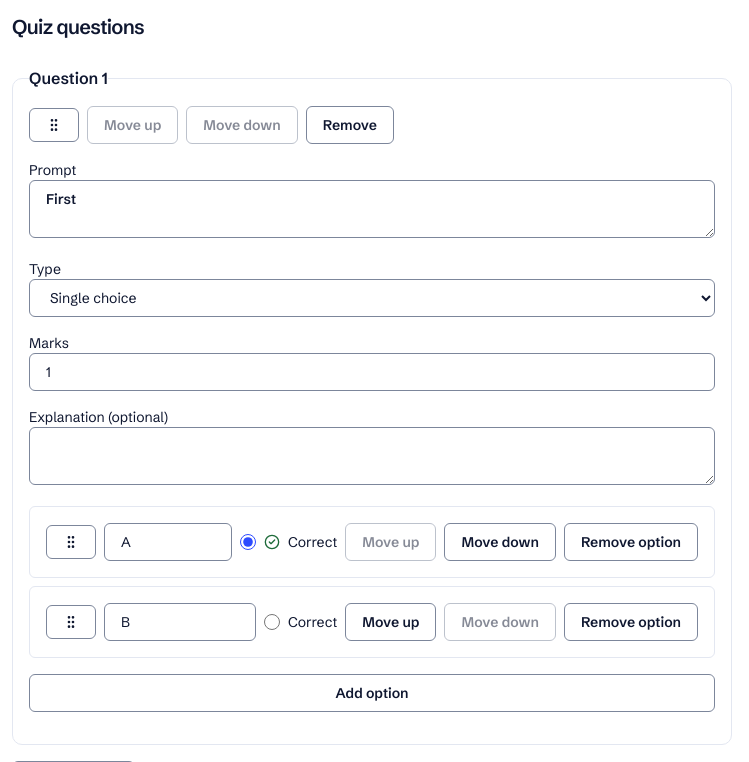
Test: quiz question builder › keeps single-choice correctness exclusive
Click the 2nd radio button labelled "Correct": (272, 622) [264,614,280,630]
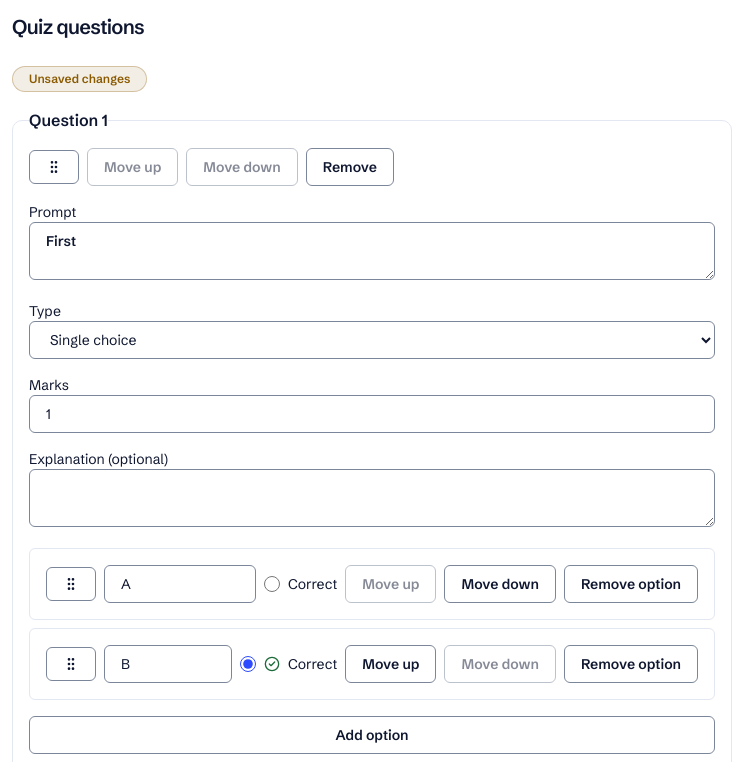
Result: the 2nd radio button labelled "Correct" is checked at [240,656,256,672]
Result: the 1st radio button labelled "Correct" is not checked at [264,576,280,592]
